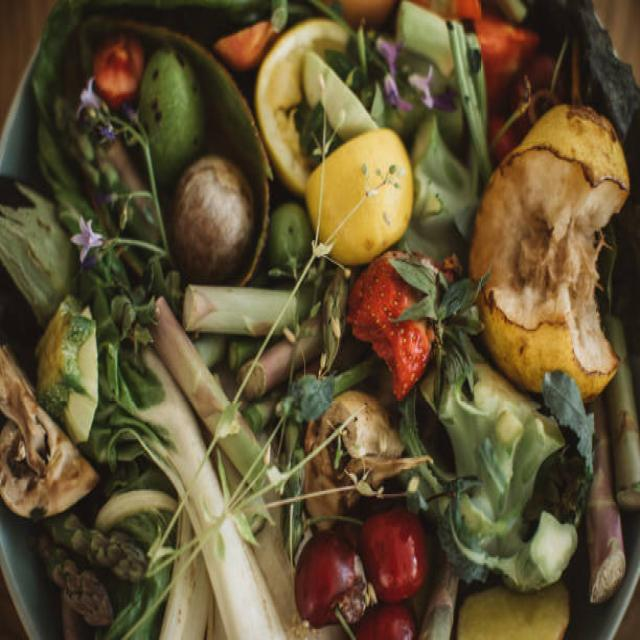paper: (488, 77, 637, 383), (351, 247, 481, 394), (306, 150, 421, 271), (152, 51, 222, 220), (175, 160, 271, 280), (363, 494, 444, 624), (296, 531, 381, 630)
